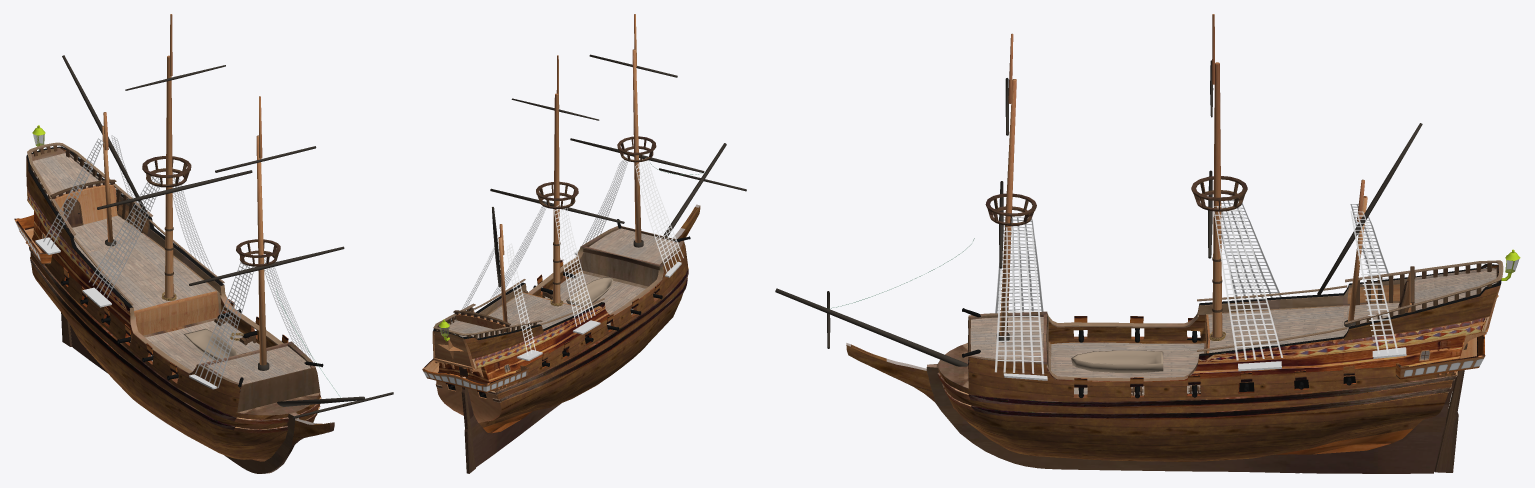
The model's file is roter_lowe_1597.glb.
3 views of the same model, side by side, from view 1: azimuth 30°, elevation 25°; view 2: azimuth 150°, elevation 25°; view 3: azimuth 270°, elevation 25° (orthographic). The views are drawn at different scales.
Visible parts, largest first — view 1: Plane, cordageMisaine, Cylinder.001, cordageGrandMat, Plane.003, Cylinder, Plane.002, Plane.005, Cylinder.014, cordageArtimont, chaloupe, Cube.009 (+5 smaller); view 2: Plane, cordageMisaine, cordageGrandMat, Cylinder.001, Cylinder, Plane.003, Plane.002, cordageArtimont, chaloupe, Cylinder.014, rudder, grandMatVigie (+4 smaller); view 3: Plane, cordageGrandMat, cordageMisaine, Plane.003, Plane.002, Cylinder.001, Cylinder, cordageArtimont, chaloupe, Plane.005, Cylinder.014, rudder (+4 smaller).
Boxes of the visible parts, box(x1,y1,x2,y2) form: Plane: box(14, 142, 334, 473); cordageMisaine: box(195, 257, 314, 387); Cylinder.001: box(189, 96, 344, 365); cordageGrandMat: box(89, 173, 213, 298); Plane.003: box(29, 247, 321, 424); Cylinder: box(164, 14, 173, 297); Plane.002: box(30, 257, 320, 433); Plane.005: box(32, 152, 102, 201); Cylinder.014: box(62, 55, 146, 242); cordageArtimont: box(43, 135, 138, 248); chaloupe: box(184, 329, 237, 360); Cube.009: box(30, 145, 145, 233); Plane: box(422, 204, 700, 467); cordageMisaine: box(582, 156, 683, 272); cordageGrandMat: box(487, 197, 595, 326); Cylinder.001: box(570, 14, 704, 242); Cylinder: box(552, 55, 560, 303); Plane.003: box(487, 267, 688, 395); Plane.002: box(435, 278, 687, 402); cordageArtimont: box(461, 243, 535, 355); chaloupe: box(566, 277, 612, 307); Cylinder.014: box(492, 207, 507, 324); rudder: box(461, 387, 475, 473); grandMatVigie: box(536, 181, 578, 209); Plane: box(846, 260, 1503, 473); cordageGrandMat: box(1213, 197, 1282, 360); cordageMisaine: box(995, 217, 1044, 374); Plane.003: box(937, 371, 1457, 407); Plane.002: box(942, 384, 1451, 419); Cylinder.001: box(999, 33, 1016, 335); Cylinder: box(1212, 14, 1222, 337); cordageArtimont: box(1350, 204, 1398, 353); chaloupe: box(1071, 350, 1163, 372); Plane.005: box(1414, 268, 1496, 310); Cylinder.014: box(1317, 123, 1422, 323); rudder: box(1434, 343, 1467, 472).
Bounding box in the file's own units: 8.45 × 21.2 × 31.21.
Materials: 15 (6 with a texture image).
